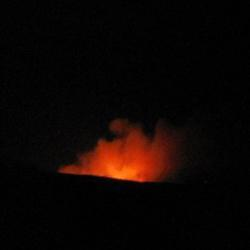fire: (102, 146, 174, 179)
